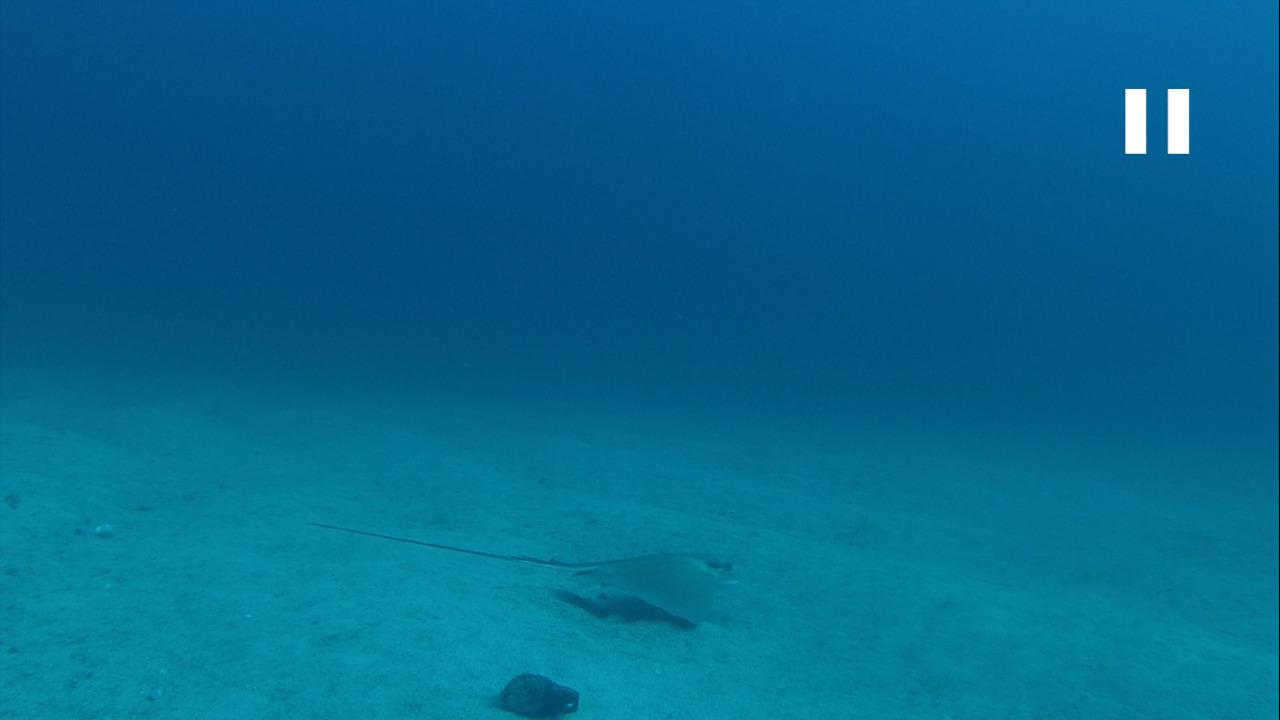myliobatis: (303, 509, 750, 633)
